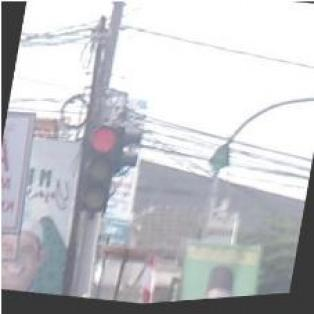Semaforo Rojo: (76, 123, 122, 217)
